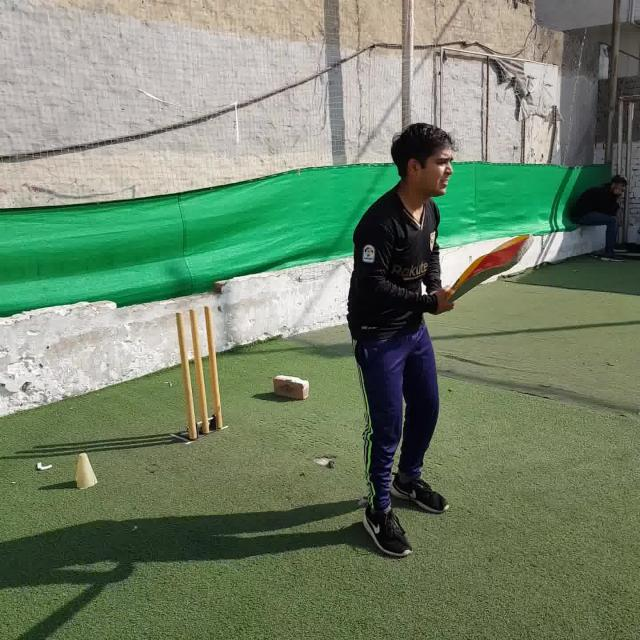bat: (444, 233, 532, 303)
